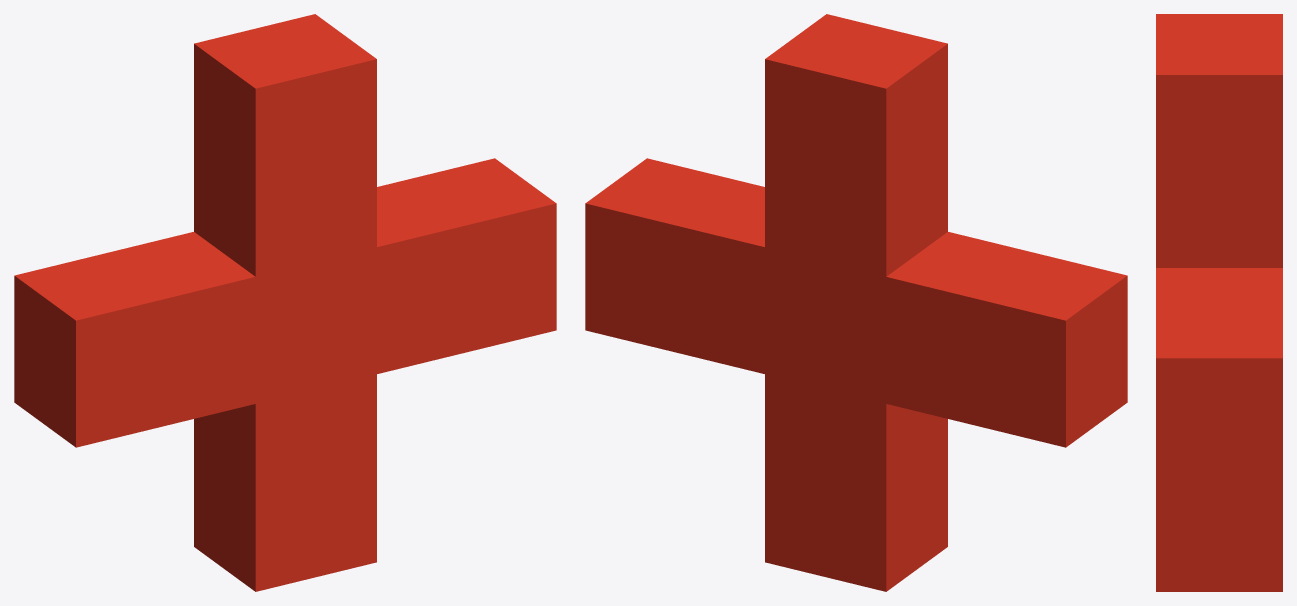
File: Icon_Symbol_Plus_01.fbx
3 renders of one model, left to right at view 1: azimuth 30°, elevation 25°; view 2: azimuth 150°, elevation 25°; view 3: azimuth 270°, elevation 25°, orthographic. The views are drawn at different scales.
Visible parts, largest first — view 1: Icon_Symbol_Plus_01; view 2: Icon_Symbol_Plus_01; view 3: Icon_Symbol_Plus_01.
Boxes of the visible parts, left/top/right/bottom form: Icon_Symbol_Plus_01: left=14, top=14, right=556, bottom=591; Icon_Symbol_Plus_01: left=585, top=14, right=1127, bottom=591; Icon_Symbol_Plus_01: left=1156, top=14, right=1282, bottom=591.
Size of the model in its own units: 54.26 by 54.3 by 12.06.
